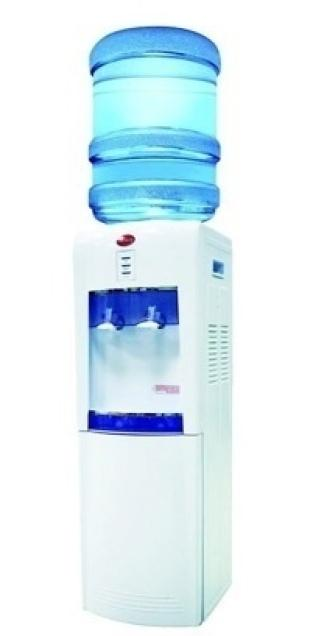Dispenser: (72, 25, 229, 627)
